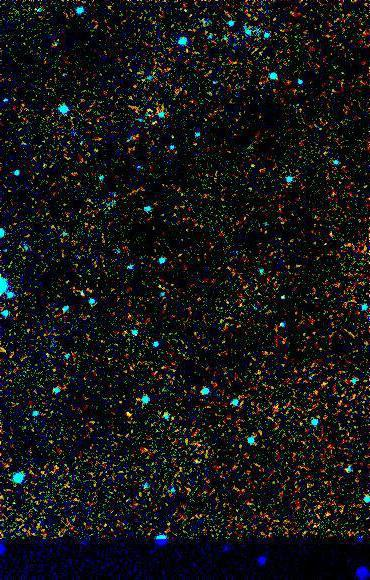star: (116, 398, 146, 428)
